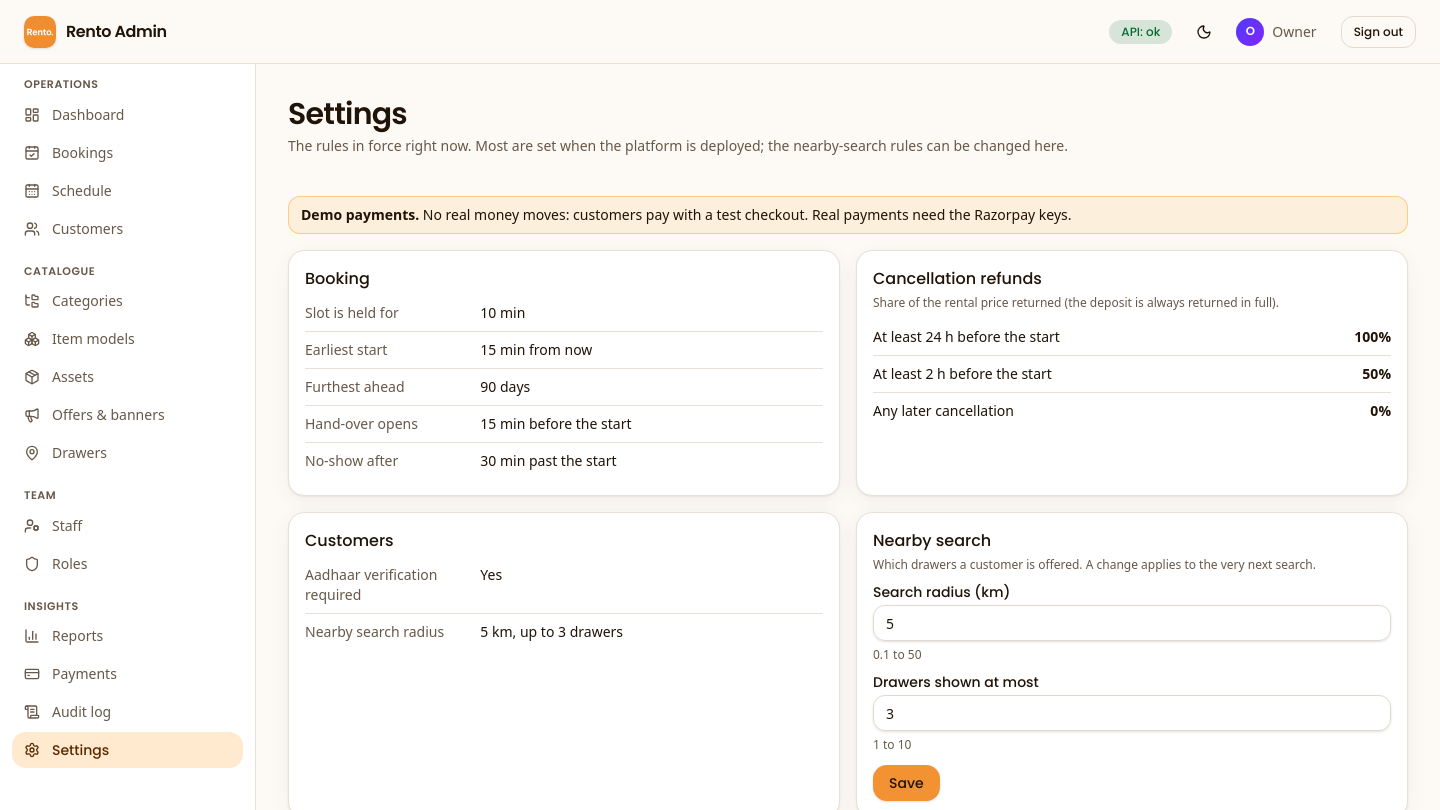
Test: settings › R-11 with settings:write the nearby-search rules can be changed (km → metres), and only they
Replace the text in the number field labelled "Search radius (km)" with "7.5" at (1132, 623), box [873, 605, 1391, 641]
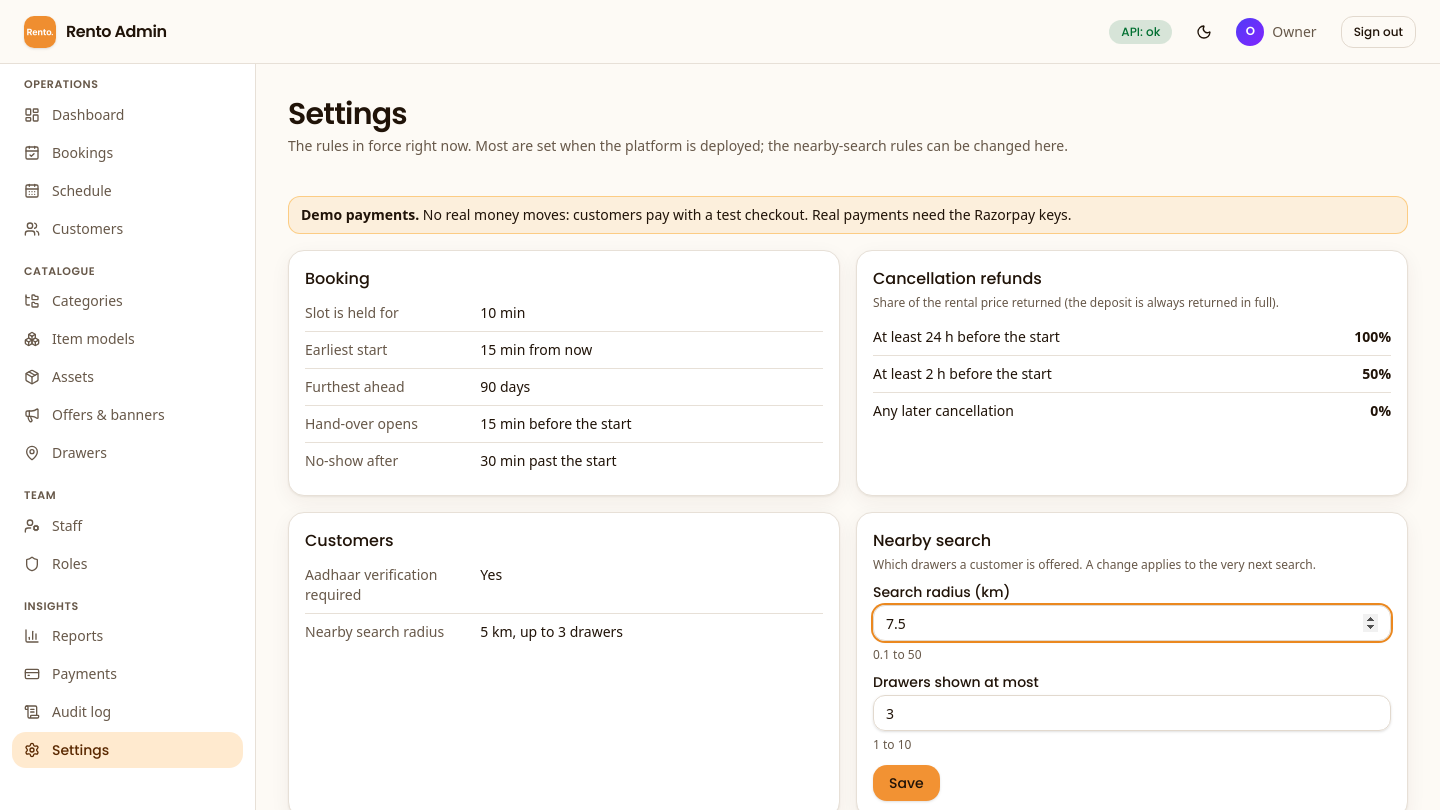
Replace the text in the number field labelled "Drawers shown at most" with "4" at (1132, 713), box [873, 695, 1391, 731]
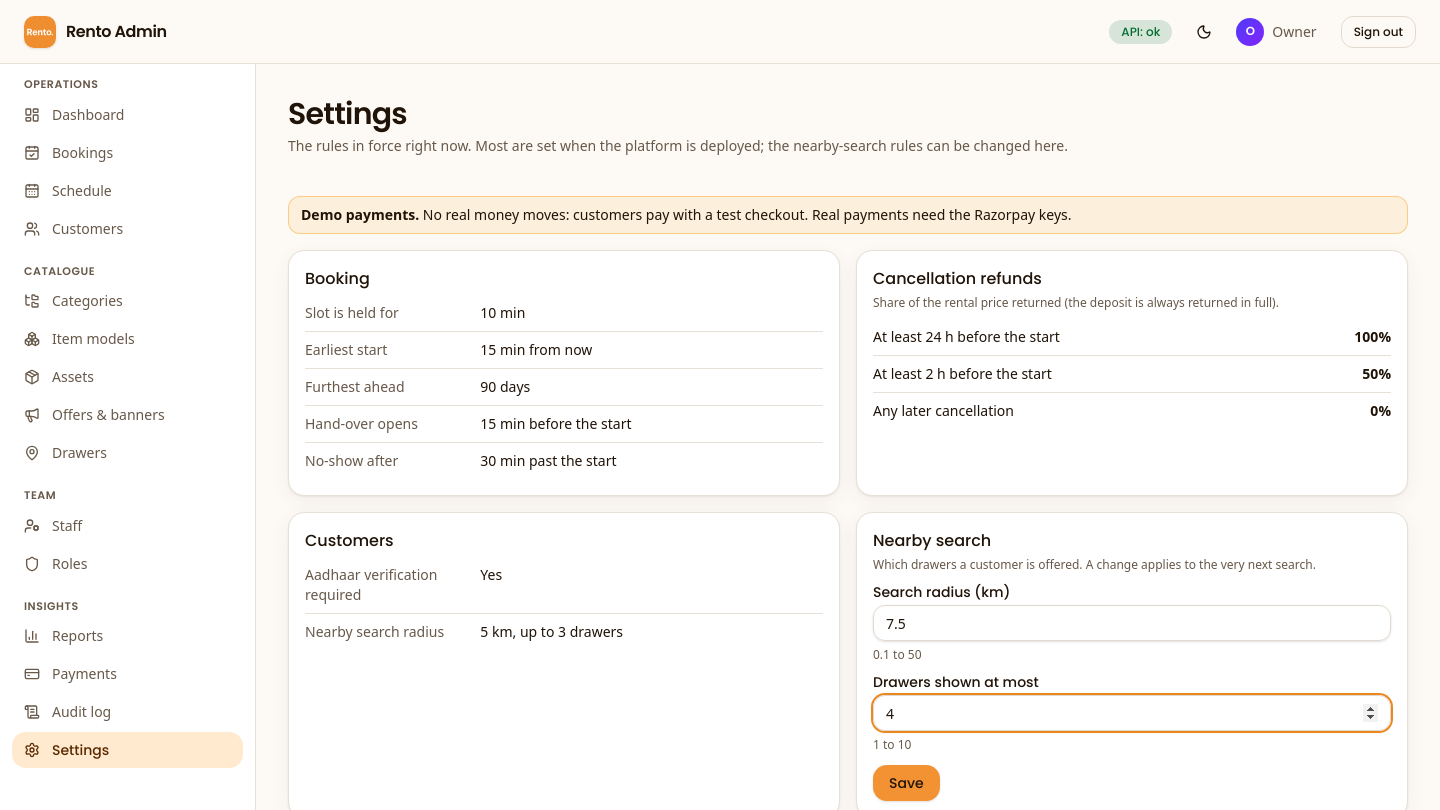
Click the button "Save" at (906, 783), box [873, 765, 940, 801]
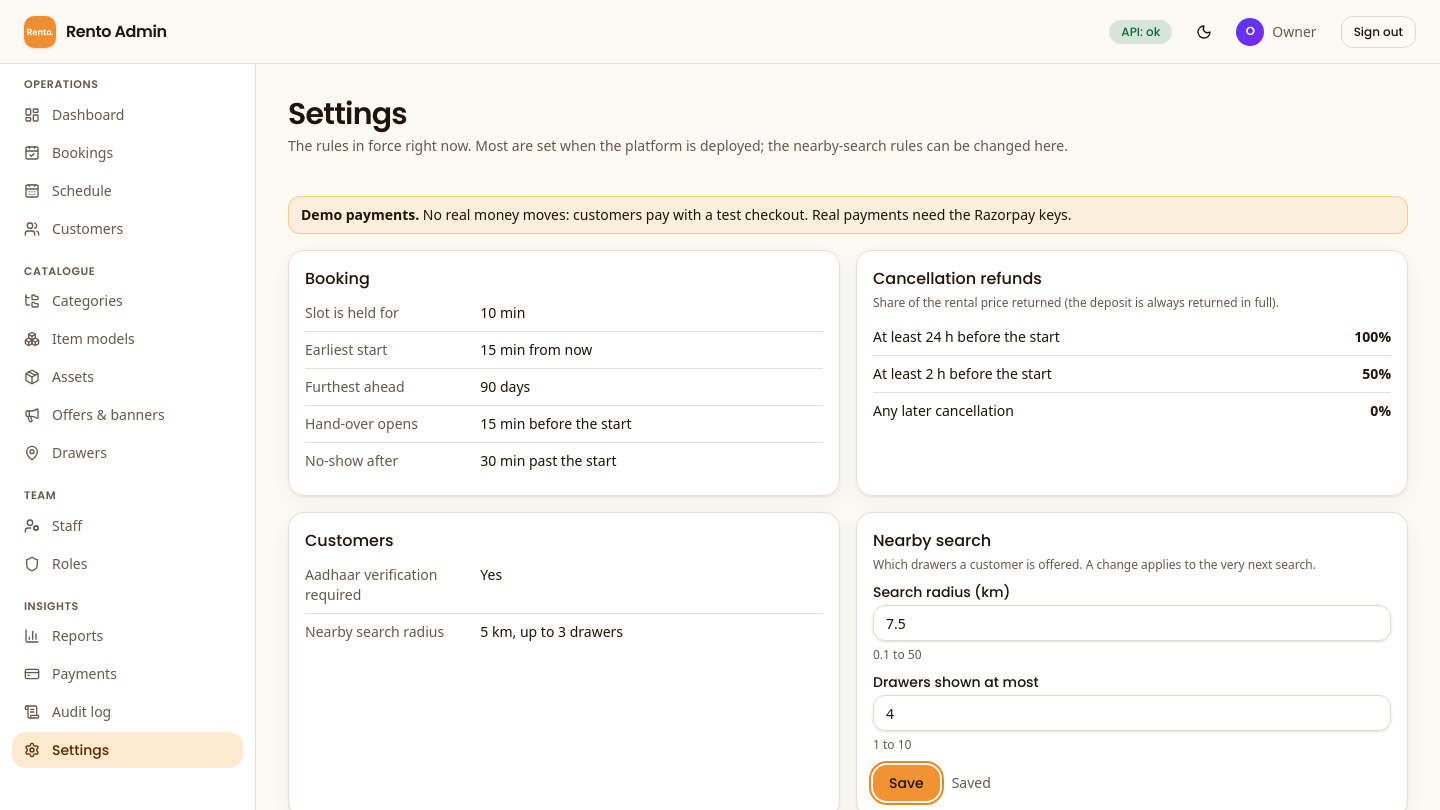
Check: the text "Saved" is shown, box [952, 773, 991, 793]
